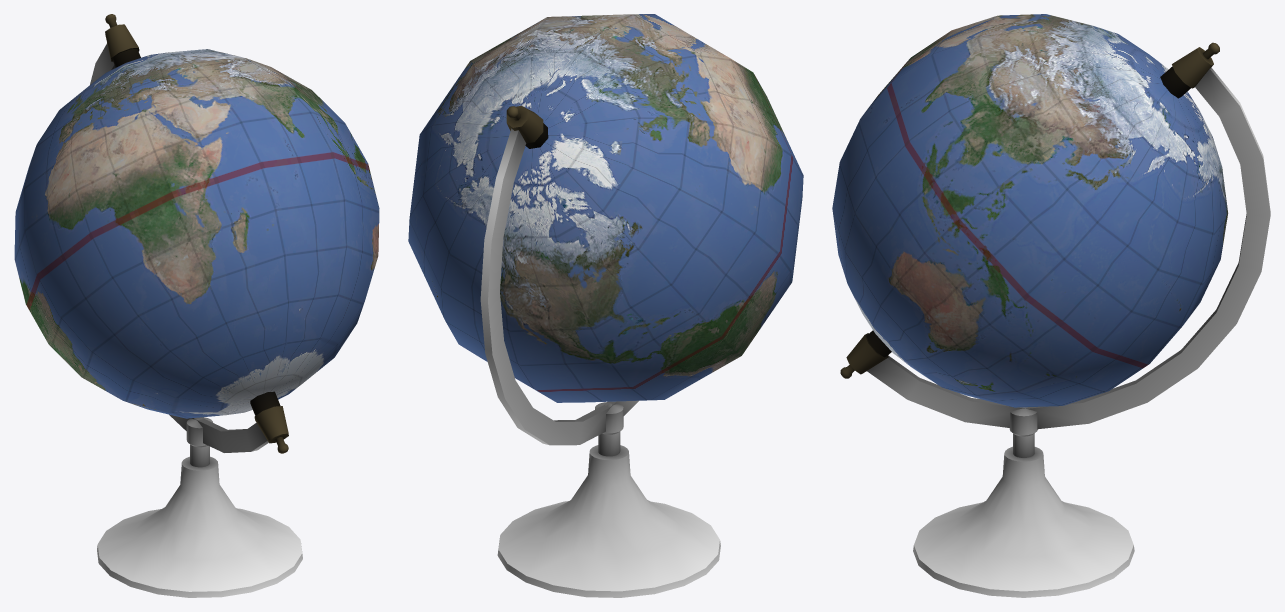
File: globe.fbx
3 renders of one model, left to right at view 1: azimuth 30°, elevation 25°; view 2: azimuth 150°, elevation 25°; view 3: azimuth 270°, elevation 25°, orthographic. The views are drawn at different scales.
Visible parts, largest first — view 1: globe(Clone); view 2: globe(Clone); view 3: globe(Clone).
Part boxes in pixels (bbox=[...]): globe(Clone): bbox=[14, 14, 379, 597]; globe(Clone): bbox=[408, 14, 803, 597]; globe(Clone): bbox=[832, 14, 1270, 597].
Bounding box in the file's own units: 0.3452 × 0.5 × 0.3822.
3 materials, 1 textured.
